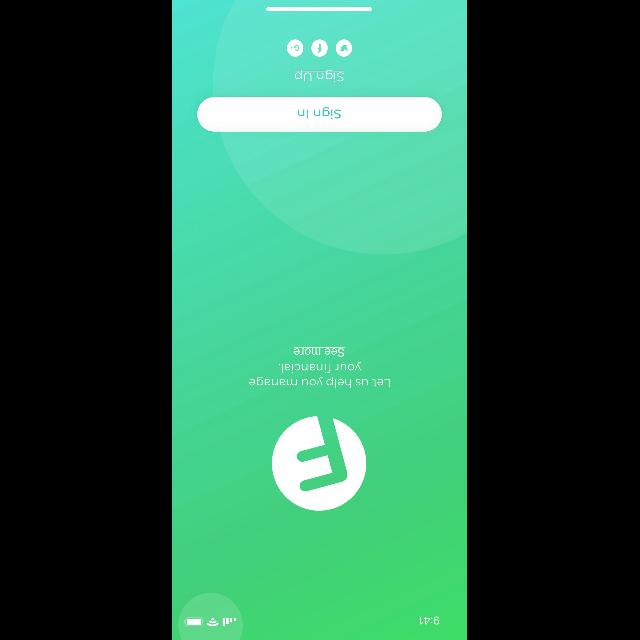icon: (336, 40, 354, 56), (312, 39, 328, 57), (288, 40, 304, 56)
image: (272, 416, 368, 510)
text: (250, 362, 390, 388), (294, 347, 346, 358)
textbutton: (198, 96, 442, 132), (295, 70, 345, 82)
uppertaskbar: (184, 616, 440, 626)
